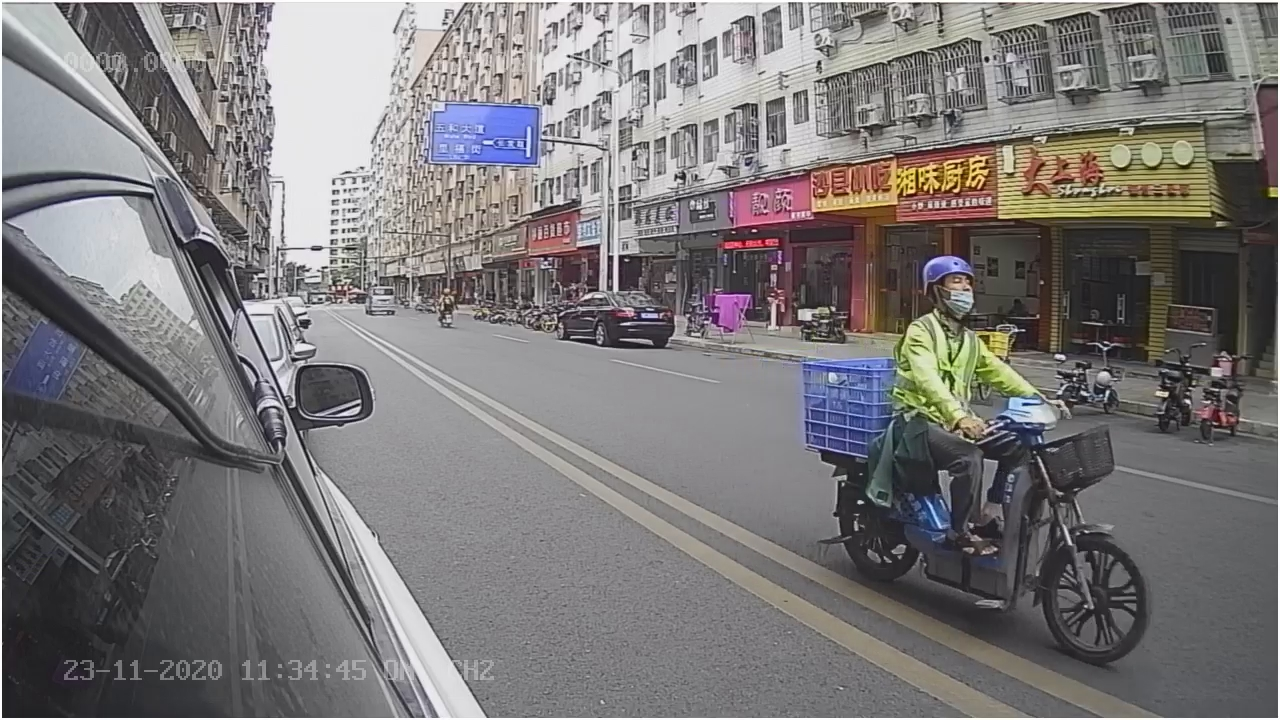person: (899, 251, 1054, 434)
